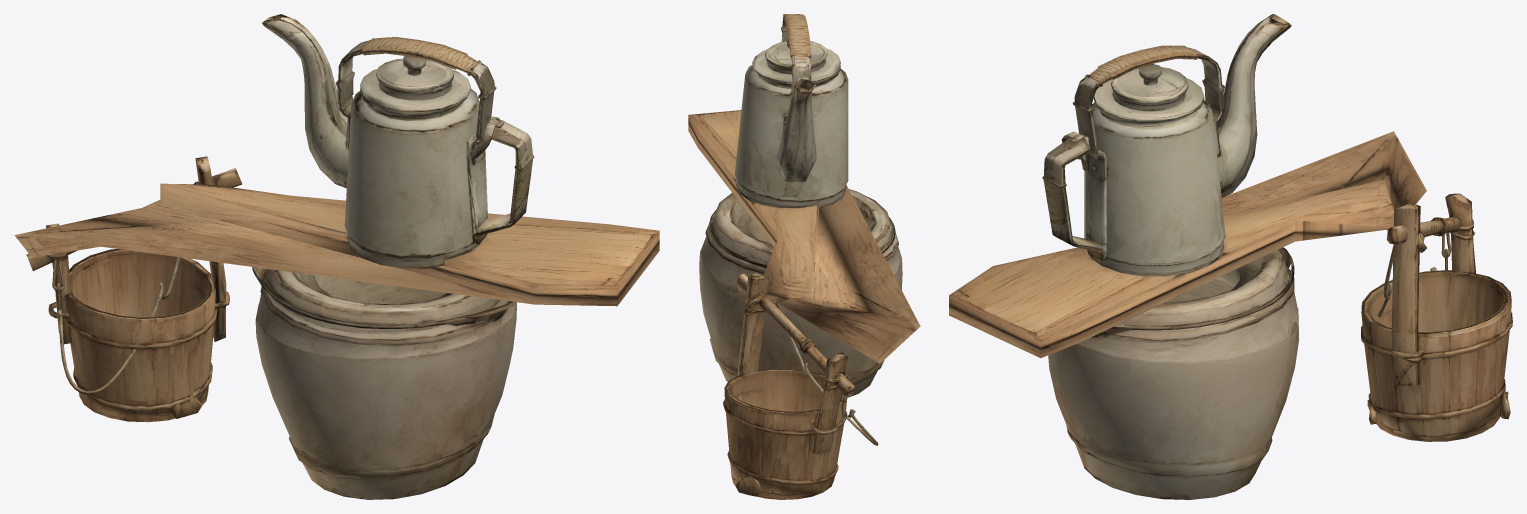
Rendered from 茶水摊贩.glb.
3 views of the same model, side by side, from view 1: azimuth 30°, elevation 25°; view 2: azimuth 150°, elevation 25°; view 3: azimuth 270°, elevation 25° (orthographic). The views are drawn at different scales.
Parts seen in each view (by area): view 1: tripo_node_76296d79-47d6-4e38-af5f-fa42a0aad469; view 2: tripo_node_76296d79-47d6-4e38-af5f-fa42a0aad469; view 3: tripo_node_76296d79-47d6-4e38-af5f-fa42a0aad469.
Part boxes in pixels (x1,y1,x2,y2): tripo_node_76296d79-47d6-4e38-af5f-fa42a0aad469: [14, 14, 659, 499]; tripo_node_76296d79-47d6-4e38-af5f-fa42a0aad469: [688, 14, 920, 499]; tripo_node_76296d79-47d6-4e38-af5f-fa42a0aad469: [949, 14, 1512, 499].
Bounding box in the file's own units: 0.9526 × 0.8306 × 0.9995.
1 material, 1 textured.
